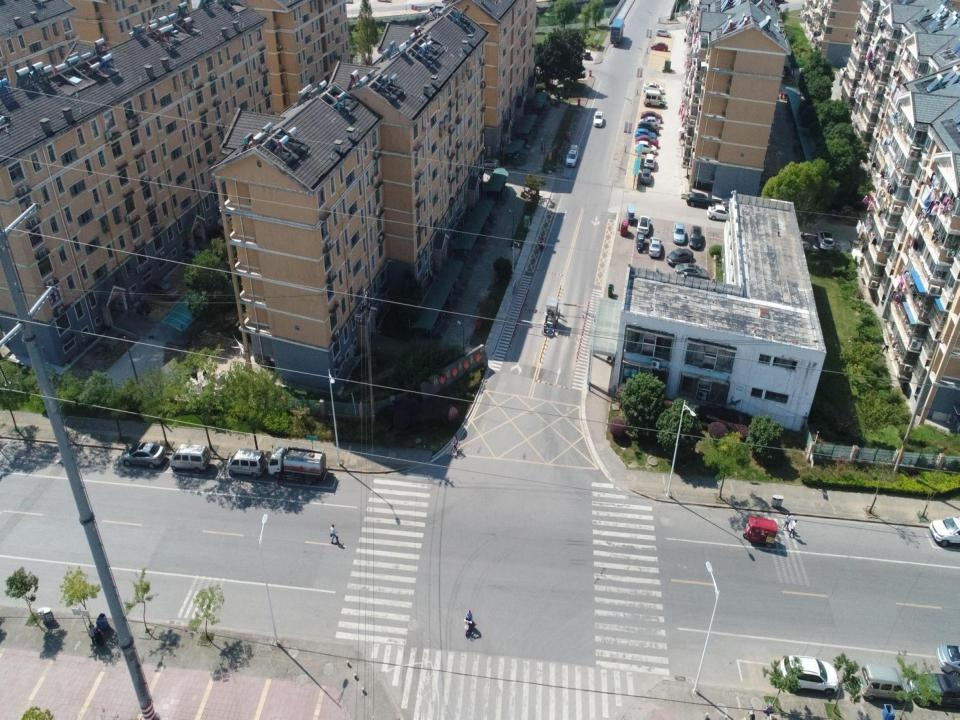bus: (610, 17, 624, 44)
car: (778, 655, 838, 696), (906, 672, 960, 708), (122, 441, 166, 471), (928, 516, 959, 547), (146, 275, 179, 301), (935, 644, 959, 674), (674, 262, 709, 280), (686, 191, 716, 208), (666, 248, 694, 266), (830, 202, 856, 220), (707, 204, 733, 221), (207, 221, 227, 240), (816, 230, 834, 251), (564, 144, 578, 168), (635, 140, 658, 154), (672, 222, 686, 245), (636, 215, 651, 236), (635, 134, 659, 147), (689, 225, 702, 249), (638, 121, 660, 135), (648, 236, 662, 258), (638, 116, 661, 128), (634, 128, 657, 140), (643, 82, 665, 94), (481, 158, 502, 170), (641, 110, 662, 122), (643, 152, 655, 169), (592, 110, 603, 127), (650, 42, 668, 52), (788, 518, 797, 538), (782, 512, 791, 530), (641, 168, 651, 184), (656, 28, 671, 38), (840, 65, 852, 77), (583, 48, 591, 60)
truck: (268, 445, 329, 485), (542, 296, 558, 338)
van: (859, 663, 907, 704), (169, 441, 211, 475), (226, 448, 267, 479), (182, 245, 207, 265), (643, 89, 666, 108)
